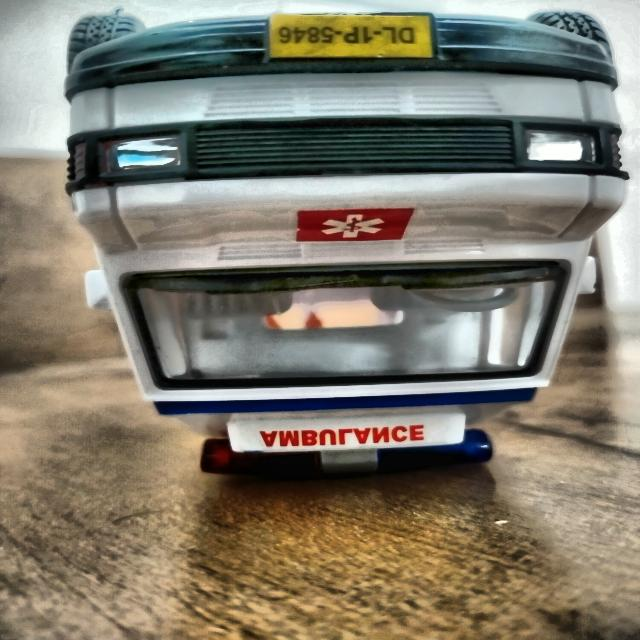Ambulance: (68, 4, 640, 502)
